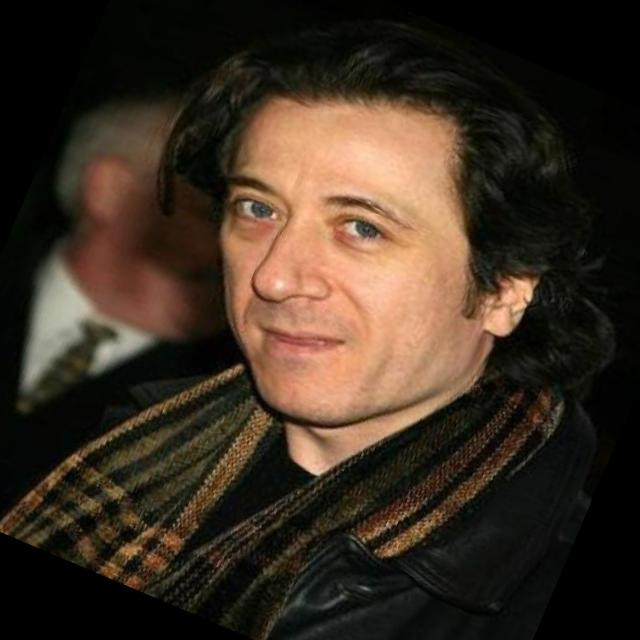bareface: (143, 60, 538, 447)
